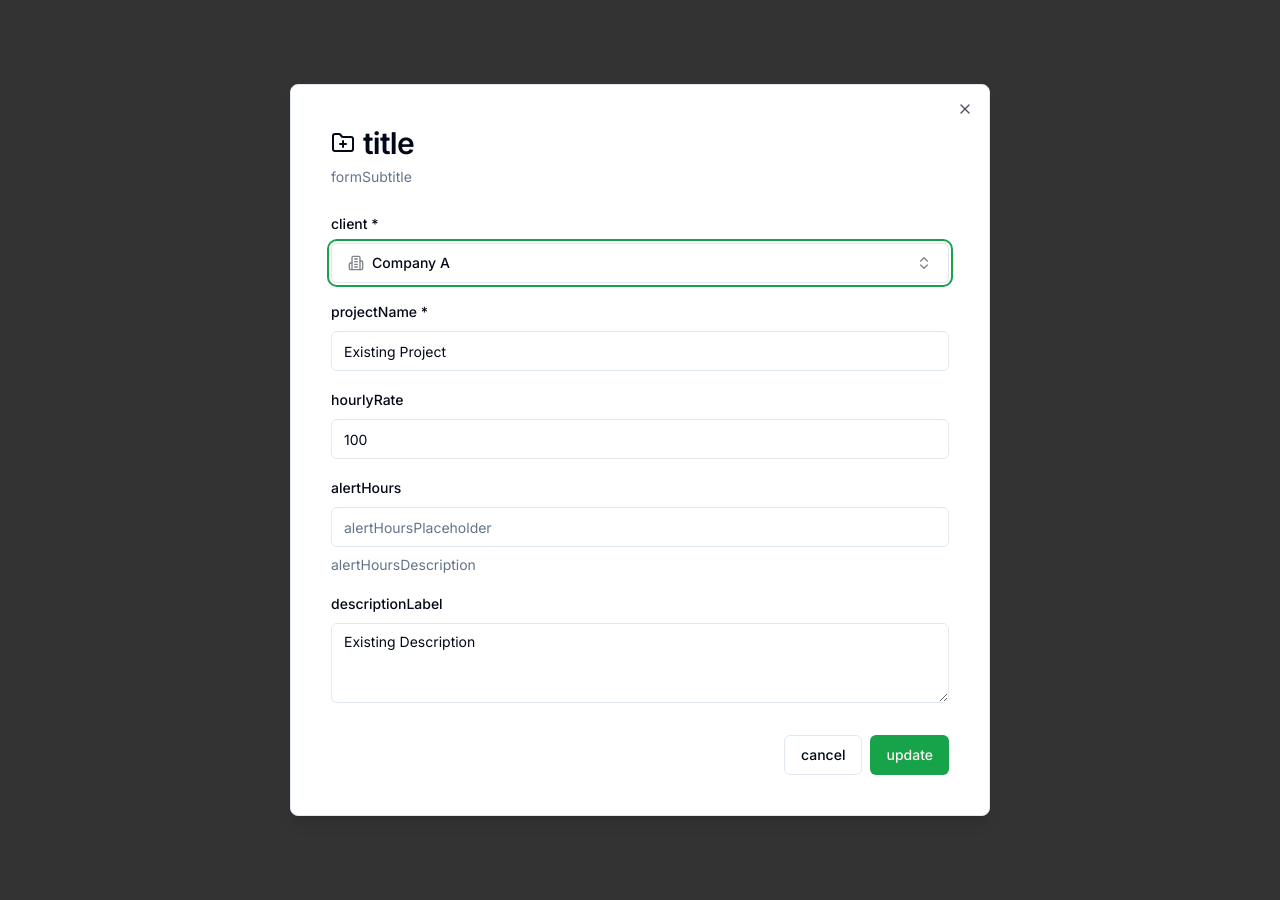
it: ProjectEditDialog › validates negative hourly rate
Replace the text in the number field showing "100" with "-50" at (640, 439), box left=331, top=419, right=949, bottom=459
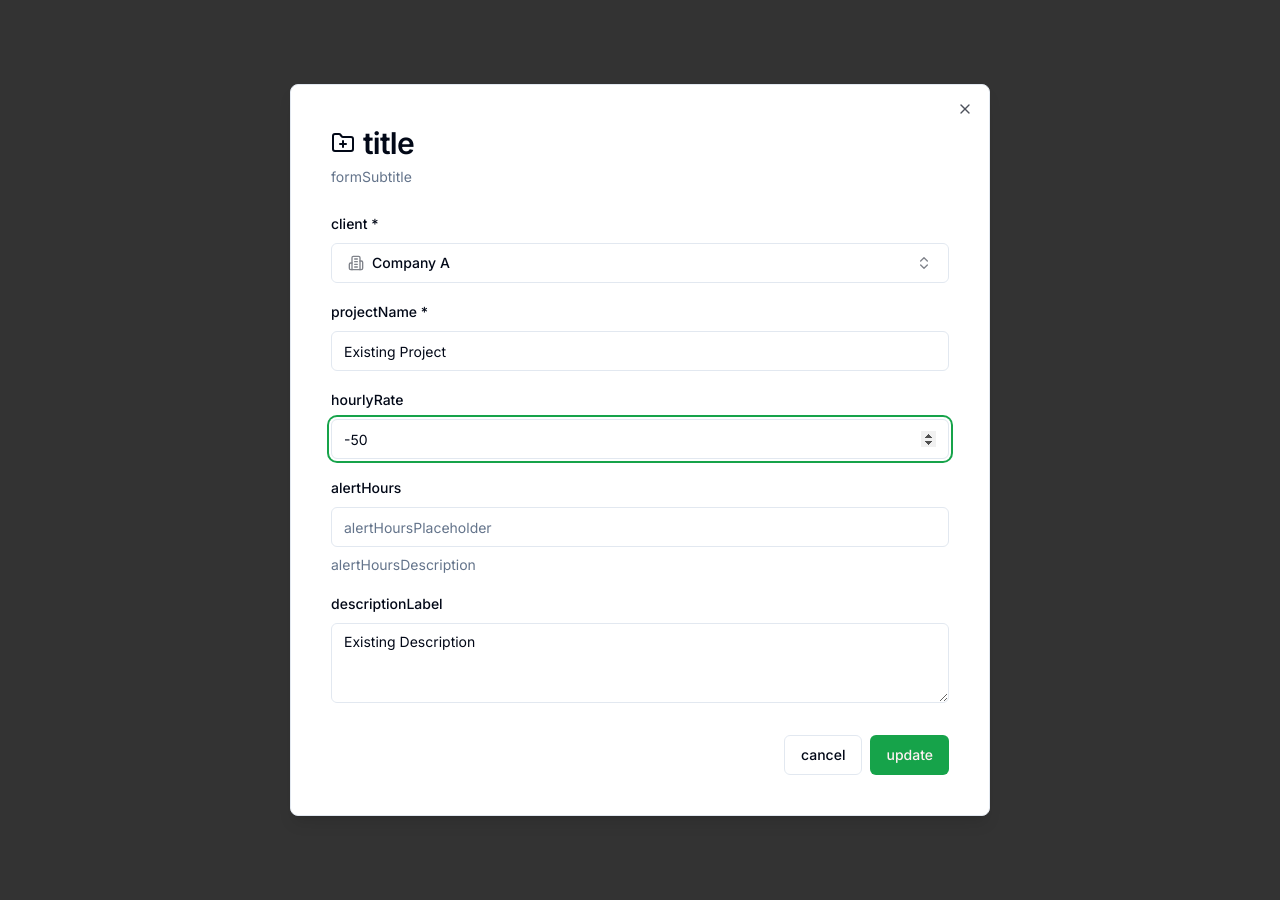
Click the button "update" at (910, 755), box left=870, top=735, right=949, bottom=775
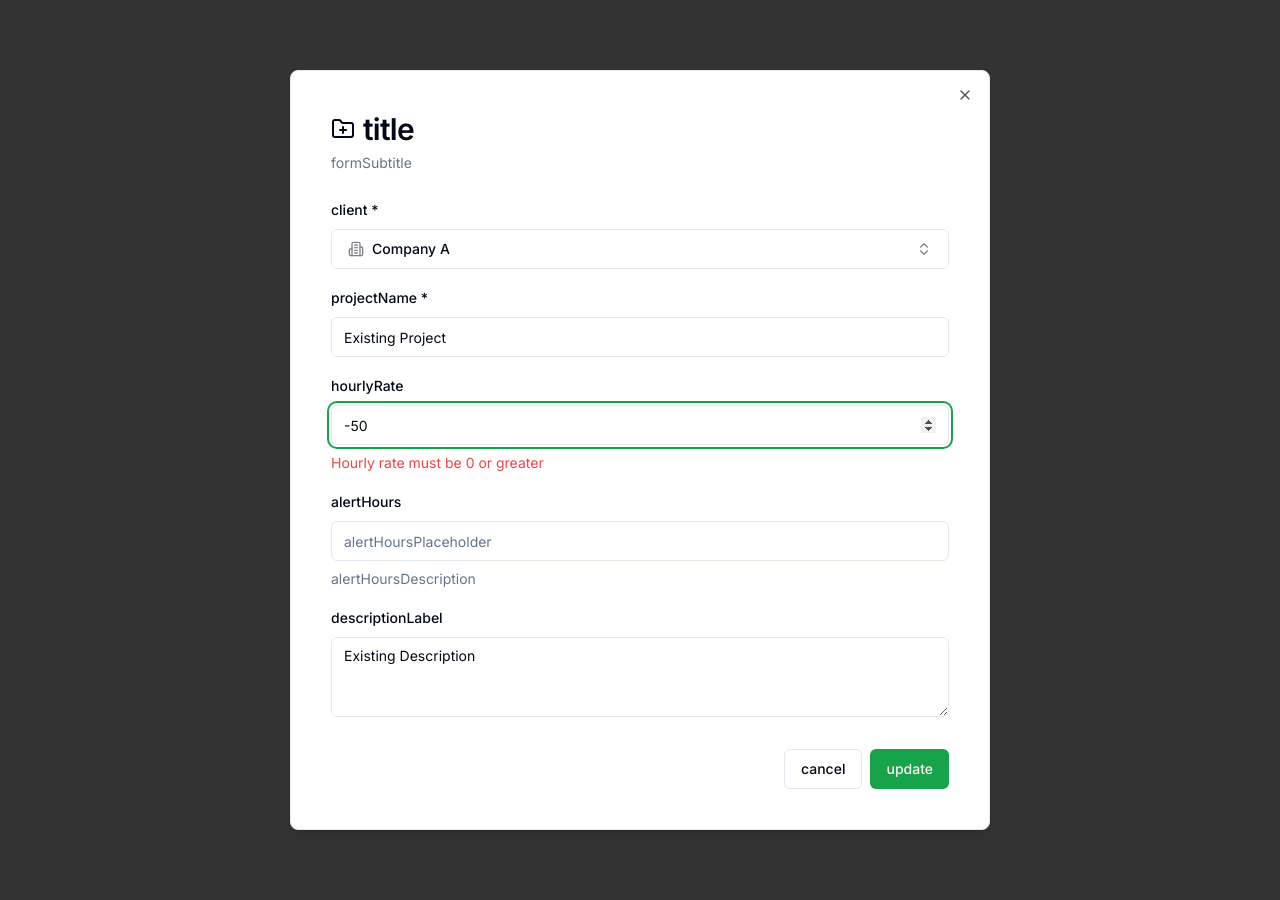
Result: the text "Hourly rate must be 0 or greater" is shown at left=331, top=454, right=544, bottom=471
